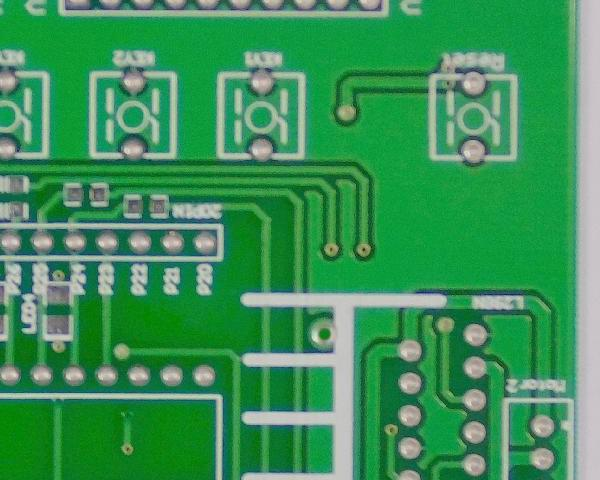missing hole: (307, 316, 340, 352)
